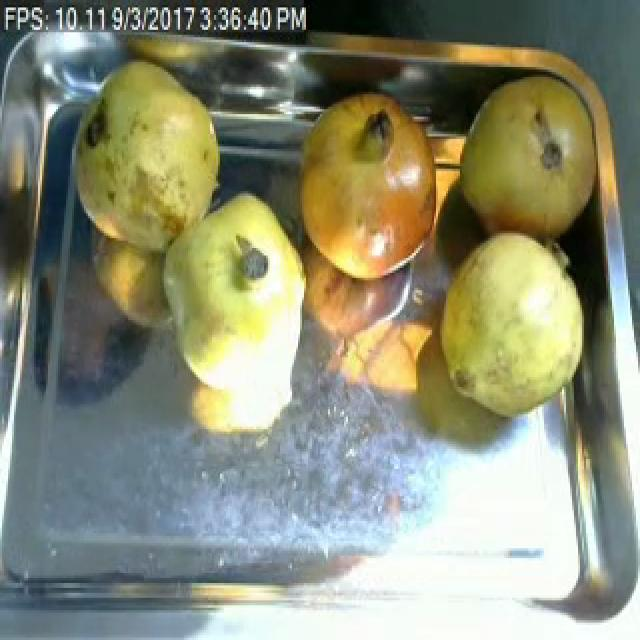fruit: (150, 184, 316, 416), (66, 45, 228, 263), (428, 220, 592, 432), (286, 84, 450, 293), (450, 67, 606, 255)
